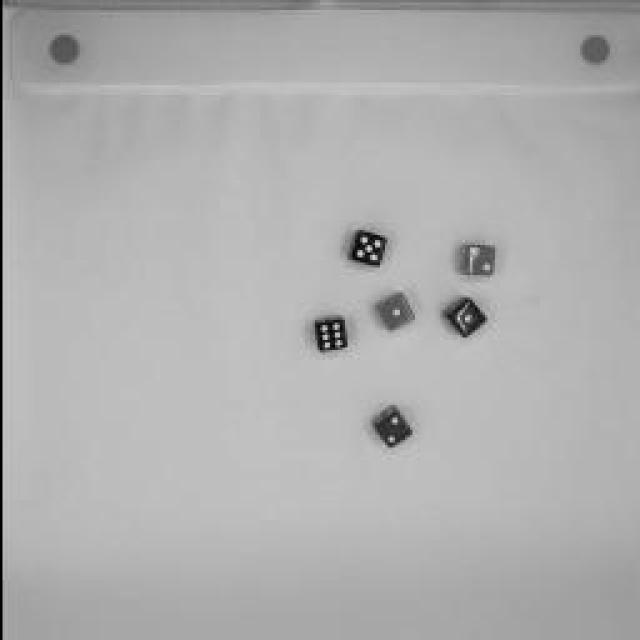dice_1: (438, 290, 490, 345), (370, 285, 420, 335)
dice_2: (365, 400, 417, 455), (452, 238, 500, 282)
dice_5: (340, 222, 390, 276)
dice_6: (305, 310, 355, 358)
